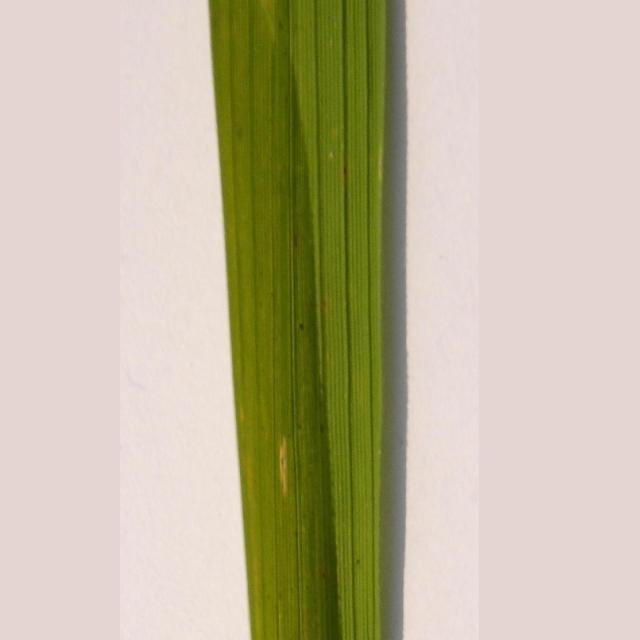Bacterial leaf blight: (271, 414, 301, 502), (252, 0, 289, 59)
